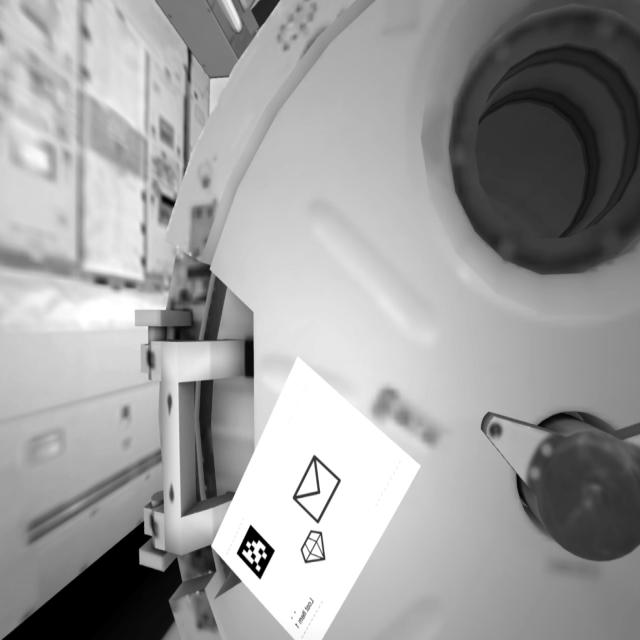diamond: (296, 526, 332, 568)
letter: (291, 452, 346, 527)
